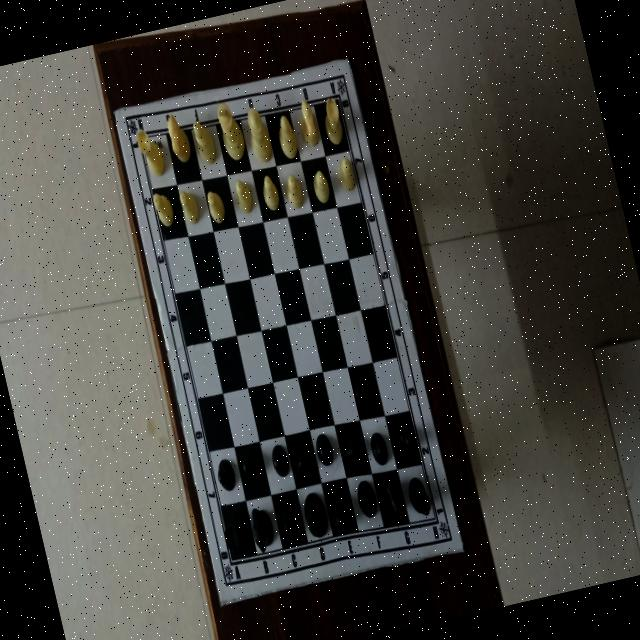corners: (454, 531, 471, 560), (339, 51, 356, 75), (108, 102, 124, 124), (213, 593, 228, 612)
